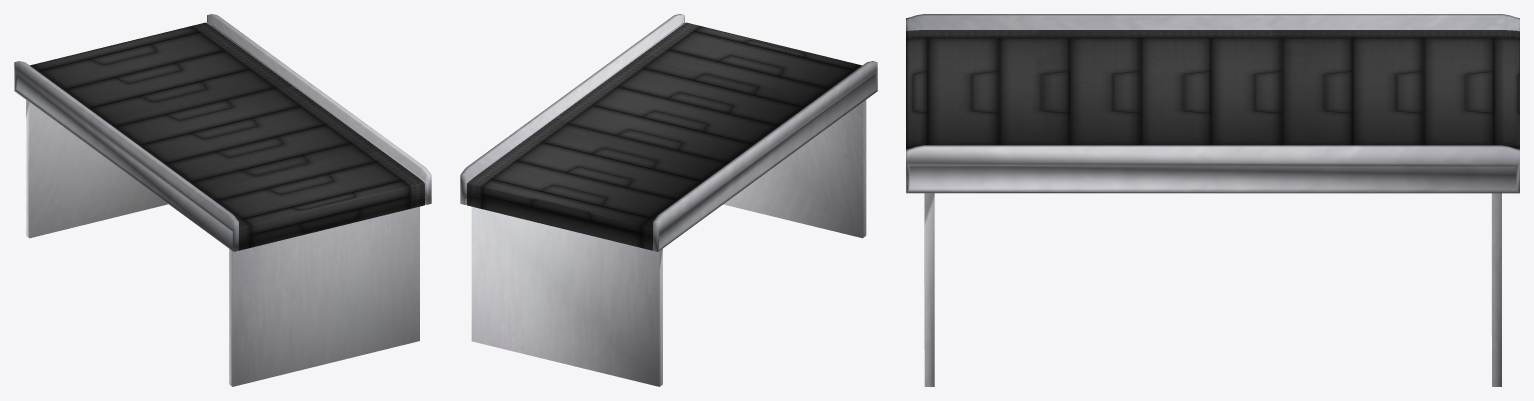
File: Convoyeur_02x.fbx
The picture shows the model from 3 angles, left to right: view 1: azimuth 30°, elevation 25°; view 2: azimuth 150°, elevation 25°; view 3: azimuth 270°, elevation 25°; orthographic projection. The views are drawn at different scales.
Visible parts, largest first — view 1: Convoyeur_02x; view 2: Convoyeur_02x; view 3: Convoyeur_02x.
Part boxes in pixels (box(x1,y1,x2,y2)): Convoyeur_02x: box(14, 14, 431, 386); Convoyeur_02x: box(460, 14, 877, 386); Convoyeur_02x: box(906, 14, 1519, 386).
Size of the model in its own units: 1.04 by 2 by 0.8701.
